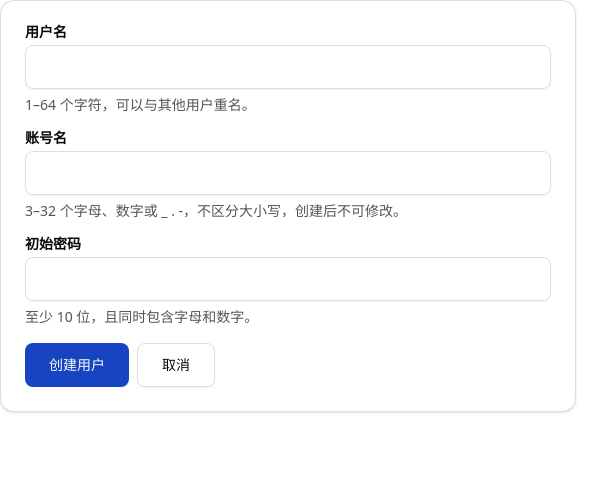
Scenario: UserForm：错误与回显 › 表单级提示（如「操作未生效」）以 alert 展示；已填内容保留，幂等键保持（重试不重复创建）
Type "王五" into the field labelled "用户名" at (288, 67), box [25,45,551,89]
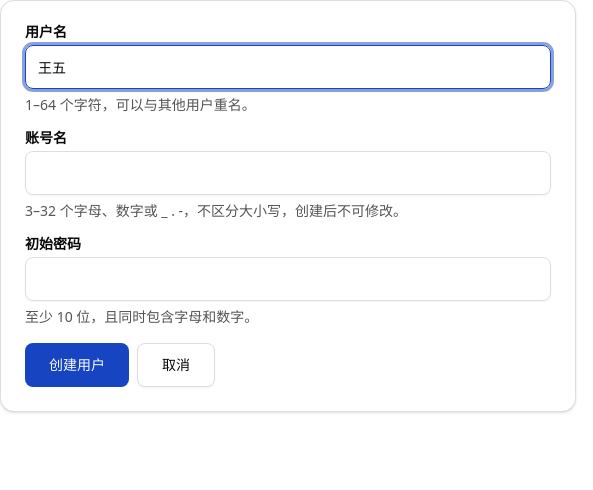
Type "wangwu" into the field labelled "账号名" at (288, 173), box [25,151,551,195]
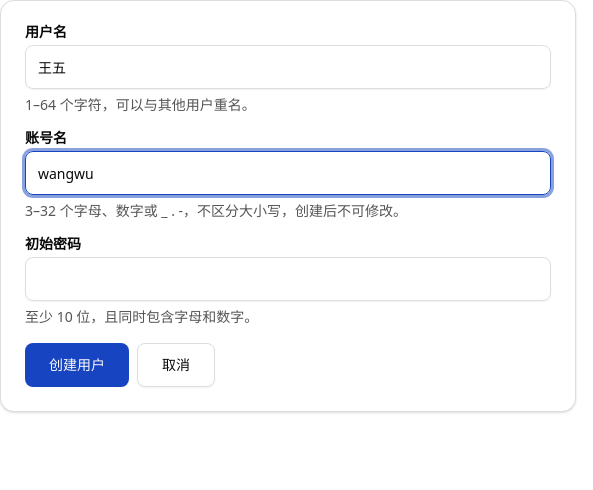
Type "Sup3r-Secret-pass" into the password field labelled "初始密码" at (288, 279), box [25,257,551,301]
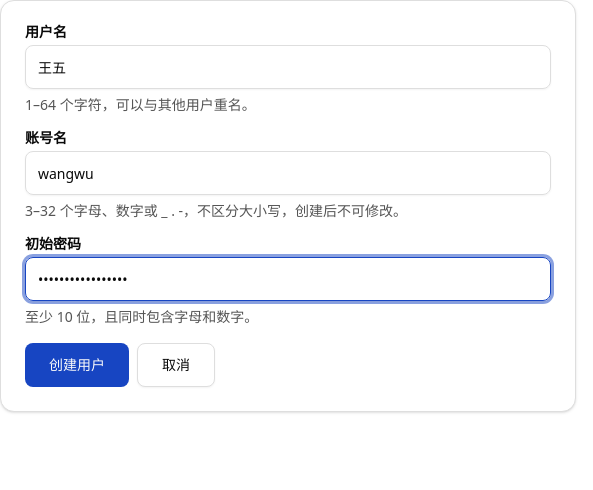
Click the button "创建用户" at (77, 365), box [25,343,129,387]
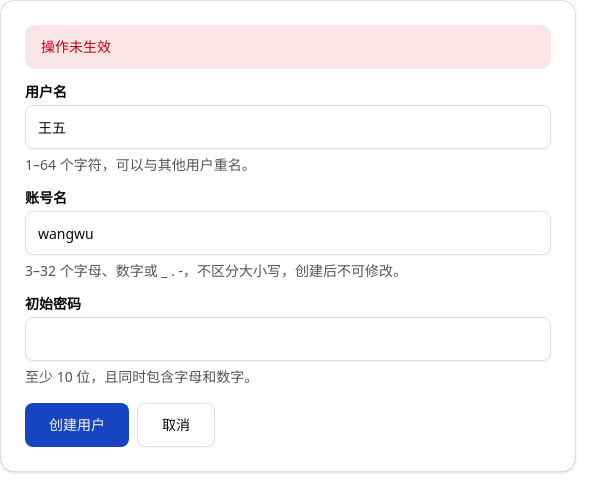
Check: the message reads "操作未生效", box [41,37,111,56]
Check: the password field labelled "初始密码" is empty, box [25,317,551,361]
